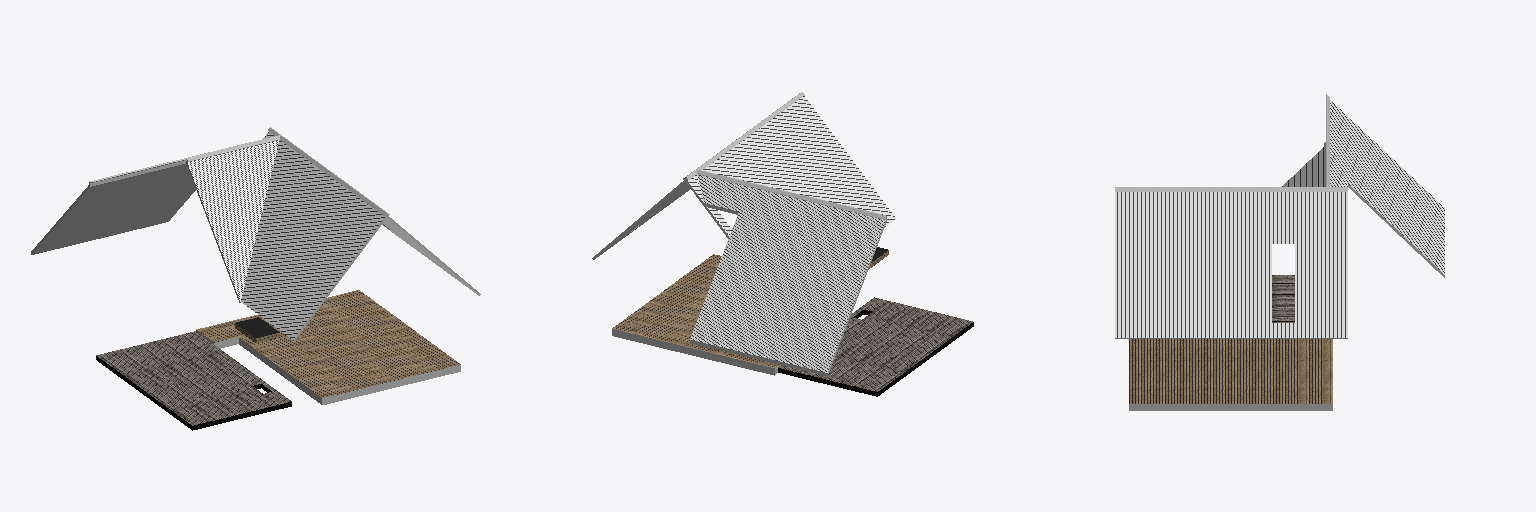
The picture shows the model from 3 angles: view 1: azimuth 30°, elevation 25°; view 2: azimuth 150°, elevation 25°; view 3: azimuth 270°, elevation 25°; orthographic projection.
Visible parts, largest first — view 1: UNITY_Taule_4"_90deg, UNITY_Plafond_Planche_Cedre, UNITY_Gris, UNITY_Plancher_Bois_Gris_90deg, UNITY_Crete, UNITY_Aluminex_Frame; view 2: UNITY_Taule_4"_90deg, UNITY_Plancher_Bois_Gris_90deg, UNITY_Plafond_Planche_Cedre, UNITY_Gris, UNITY_Crete, UNITY_Aluminex_Frame; view 3: UNITY_Taule_4"_90deg, UNITY_Plafond_Planche_Cedre, UNITY_Gris, UNITY_Crete, UNITY_Plancher_Bois_Gris_90deg.
Part boxes in pixels (left/top/right/bottom): UNITY_Taule_4"_90deg: left=187, top=132, right=384, bottom=339; UNITY_Plafond_Planche_Cedre: left=196, top=290, right=460, bottom=397; UNITY_Gris: left=31, top=160, right=480, bottom=404; UNITY_Plancher_Bois_Gris_90deg: left=96, top=331, right=291, bottom=425; UNITY_Crete: left=89, top=127, right=389, bottom=215; UNITY_Aluminex_Frame: left=96, top=356, right=291, bottom=430; UNITY_Taule_4"_90deg: left=688, top=96, right=895, bottom=372; UNITY_Plancher_Bois_Gris_90deg: left=778, top=297, right=972, bottom=391; UNITY_Plafond_Planche_Cedre: left=612, top=250, right=888, bottom=367; UNITY_Gris: left=592, top=179, right=886, bottom=376; UNITY_Crete: left=683, top=92, right=886, bottom=219; UNITY_Aluminex_Frame: left=778, top=310, right=973, bottom=396; UNITY_Taule_4"_90deg: left=1115, top=100, right=1444, bottom=337; UNITY_Plafond_Planche_Cedre: left=1129, top=339, right=1332, bottom=403; UNITY_Gris: left=1115, top=184, right=1444, bottom=410; UNITY_Crete: left=1115, top=94, right=1347, bottom=191; UNITY_Plancher_Bois_Gris_90deg: left=1272, top=275, right=1294, bottom=322.
Bounding box in the file's own units: 41.1 × 25.43 × 41.37.
8 materials, 3 textured.